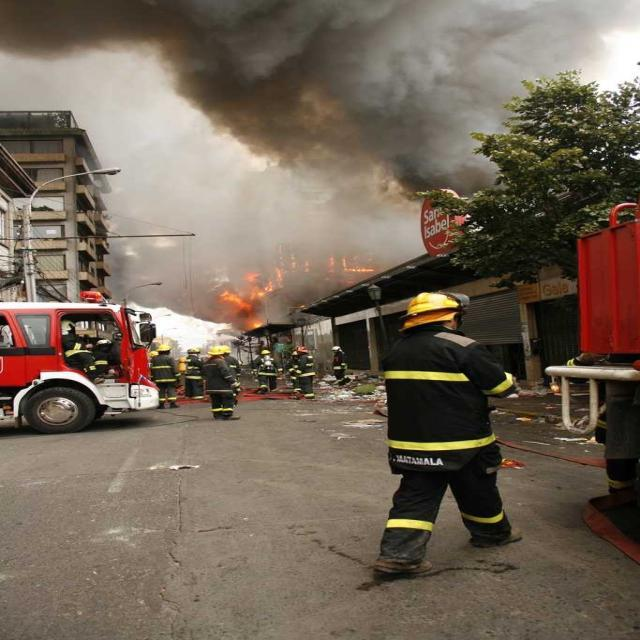Fire: (222, 280, 322, 328)
Smoke: (197, 5, 570, 176)
